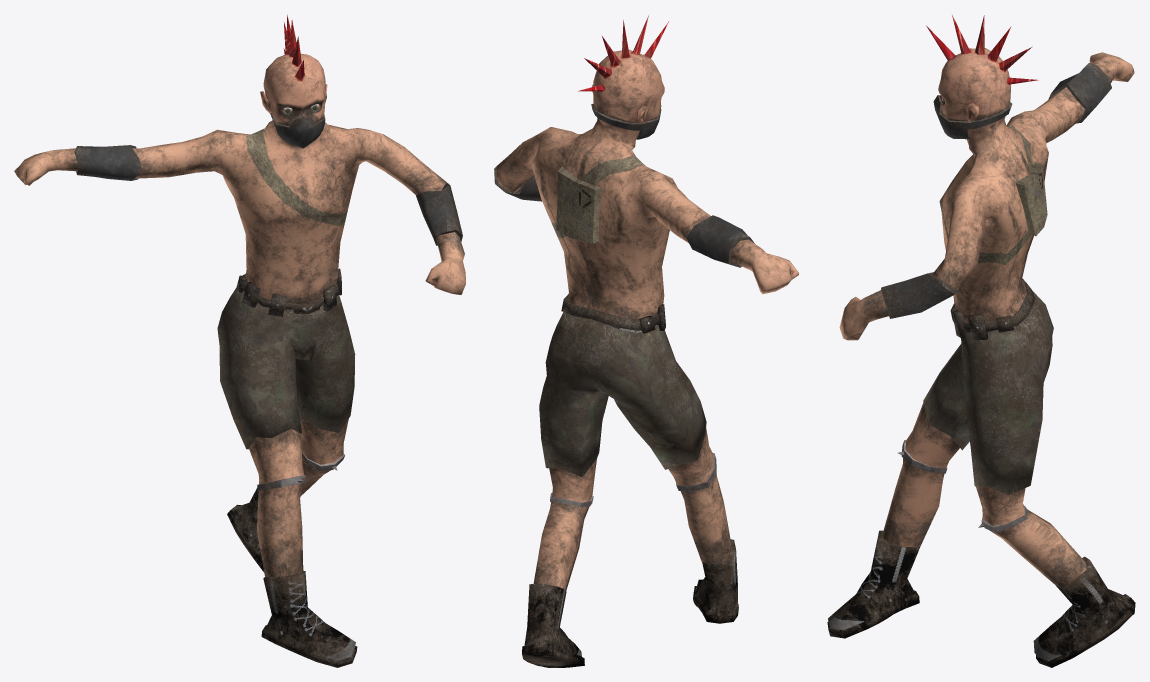
File: Anim_arma_cc_npc2.0015.obj
The picture shows the model from 3 angles, left to right: view 1: azimuth 30°, elevation 25°; view 2: azimuth 150°, elevation 25°; view 3: azimuth 270°, elevation 25°; orthographic projection. The views are drawn at different scales.
Visible parts, largest first — view 1: polySurface1; view 2: polySurface1; view 3: polySurface1.
Boxes of the visible parts, box(x1,y1,x2,y2) form: polySurface1: box(14, 14, 465, 667); polySurface1: box(494, 15, 798, 667); polySurface1: box(827, 15, 1135, 667).
Bounding box in the file's own units: 6.29 × 10.06 × 4.43.
